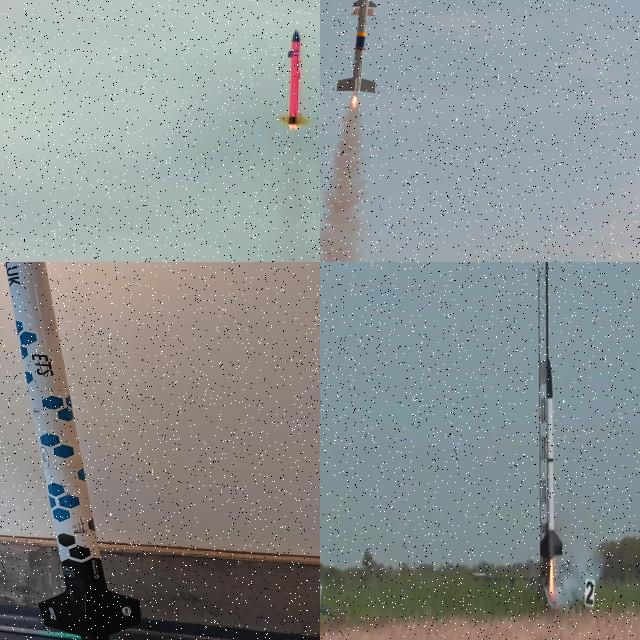Rocket: (4, 262, 141, 640), (540, 358, 564, 561), (335, 0, 377, 93), (276, 28, 311, 126)
